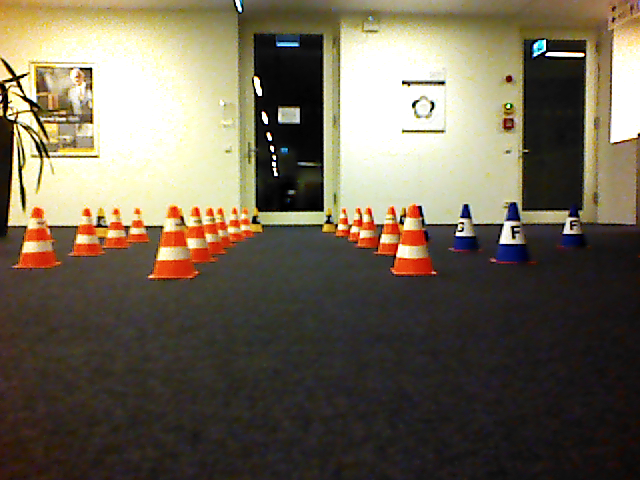bluecone: (489, 200, 541, 266), (447, 203, 486, 253), (555, 203, 592, 250)
orangeconesmall: (146, 206, 199, 281), (389, 204, 440, 277), (11, 206, 60, 271), (67, 207, 104, 258), (187, 206, 217, 265), (101, 207, 132, 249), (376, 206, 400, 255), (357, 206, 381, 248)
